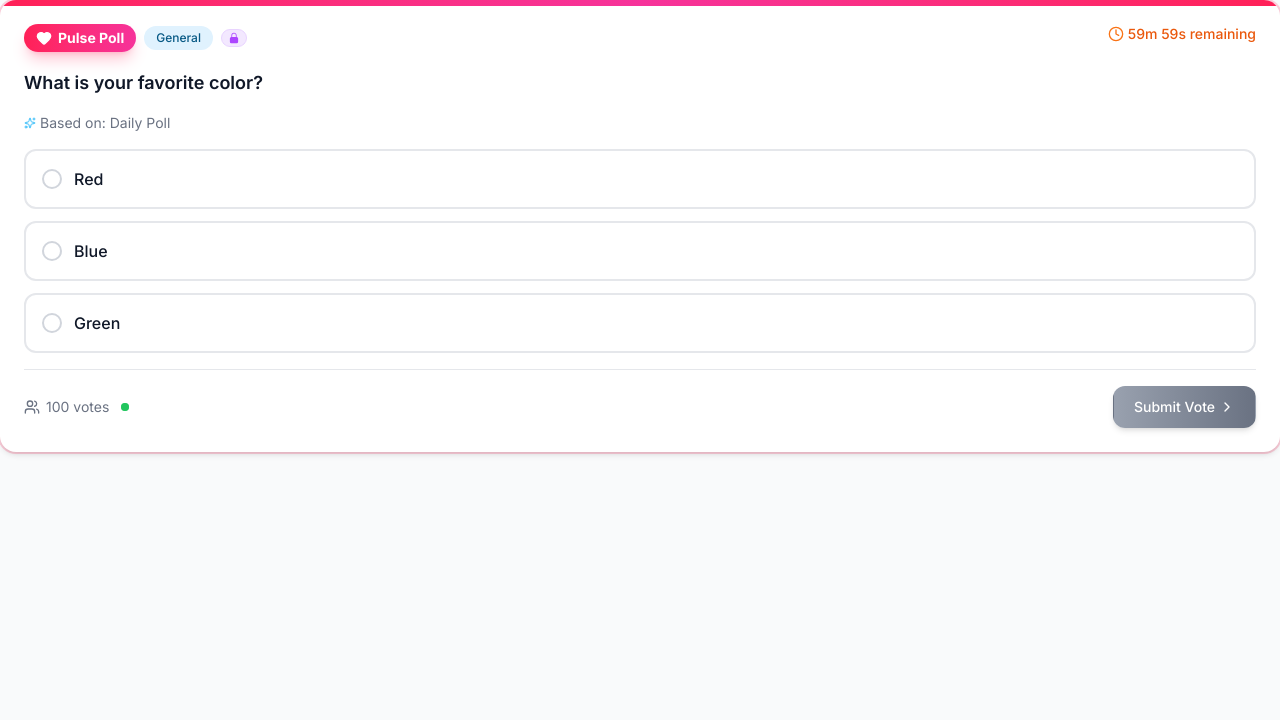
Test: PollCard › Voting Flow › handles vote error gracefully
Click the text "Red": coordinates (640, 179) [24, 149, 1256, 209]
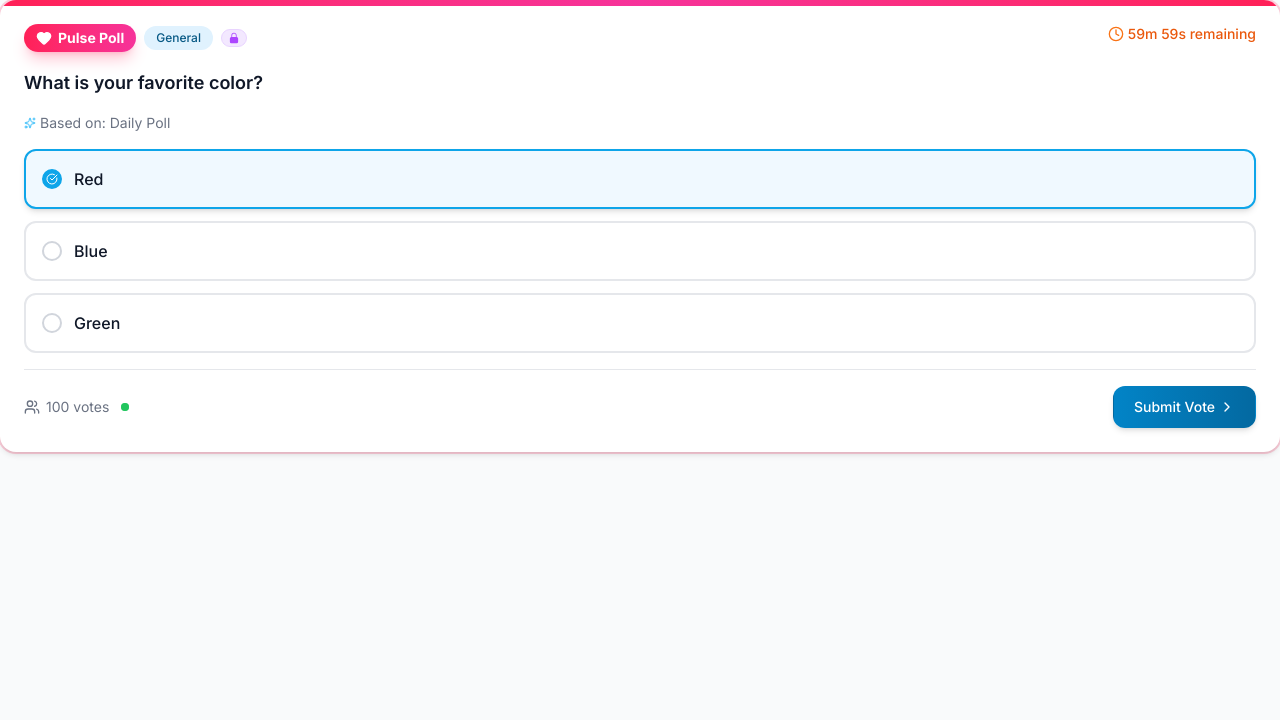
Click the button "Submit Vote": coordinates (1184, 407) [1113, 386, 1256, 428]
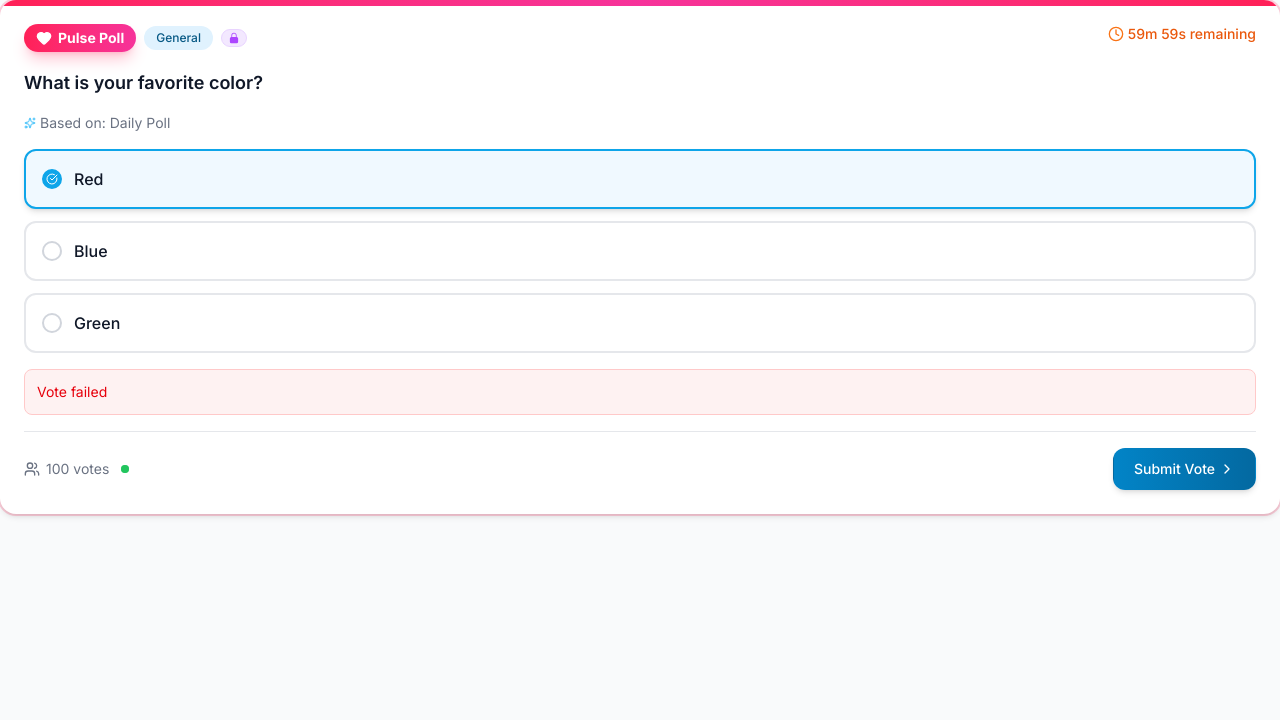
Check: the text "Vote failed" is shown, box [37, 383, 107, 400]
